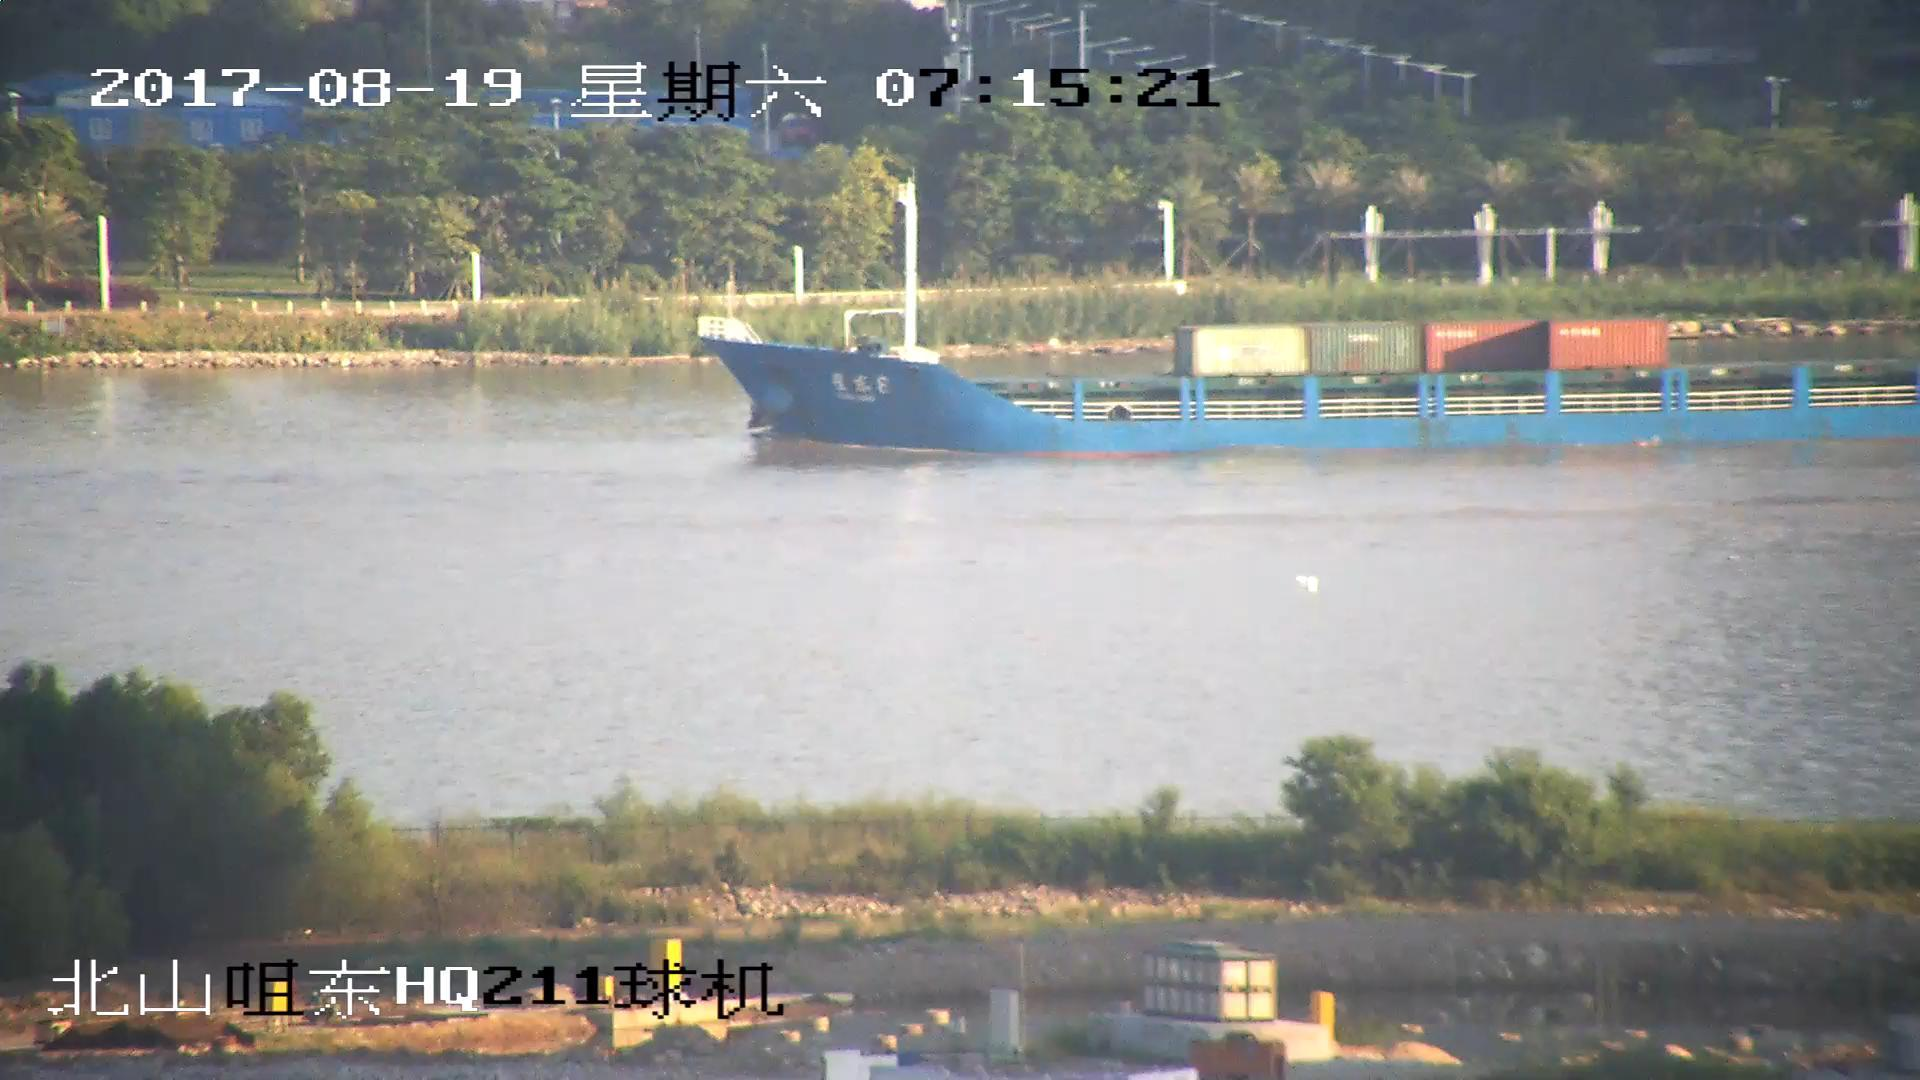Ship: (703, 186, 1920, 452)
